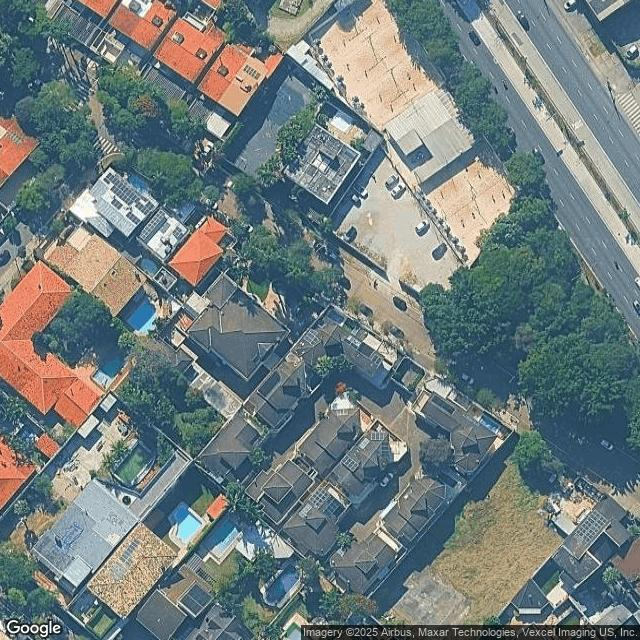pool: (138, 313, 157, 342), (132, 463, 149, 484), (111, 367, 123, 394), (279, 580, 294, 600), (179, 516, 190, 540), (129, 180, 142, 199), (233, 536, 241, 563), (485, 425, 492, 444)
